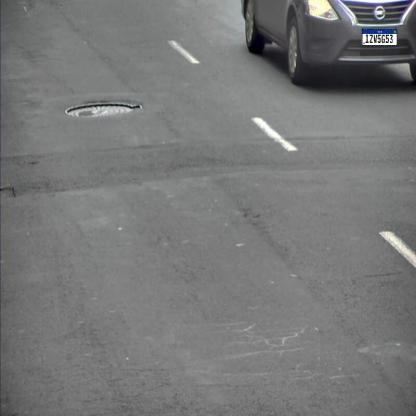PlacaM: (362, 29, 397, 46)
